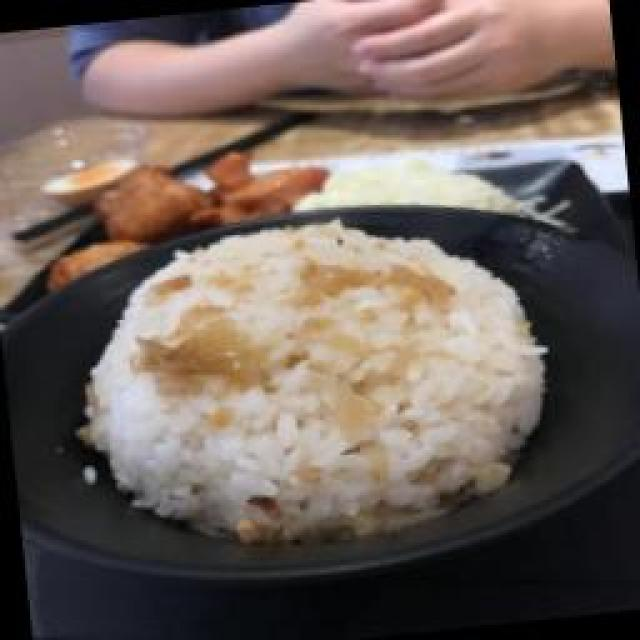Wet Waste: (55, 195, 573, 567)
